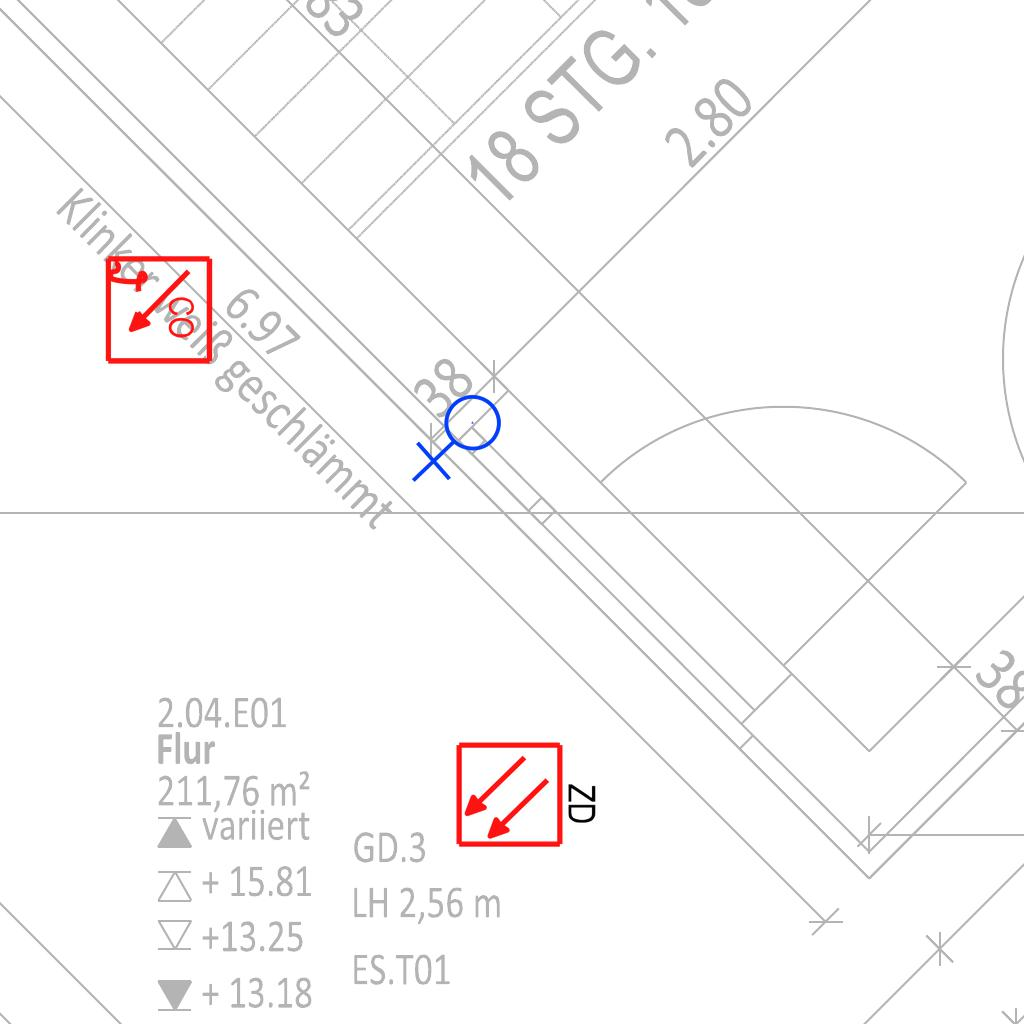Elektroanschluss_allgemein_230V_Geraeteanschlussdose_230V: (411, 393, 510, 487)
ROA_Rauchmelder_optisch_mit_Signalgeber_(Sockelsirene): (101, 254, 214, 367)
ZD_Melder_in_Zwischendecke_mit_Revisionsoeffnung_mind_40_x_40_cm: (454, 736, 603, 850)
